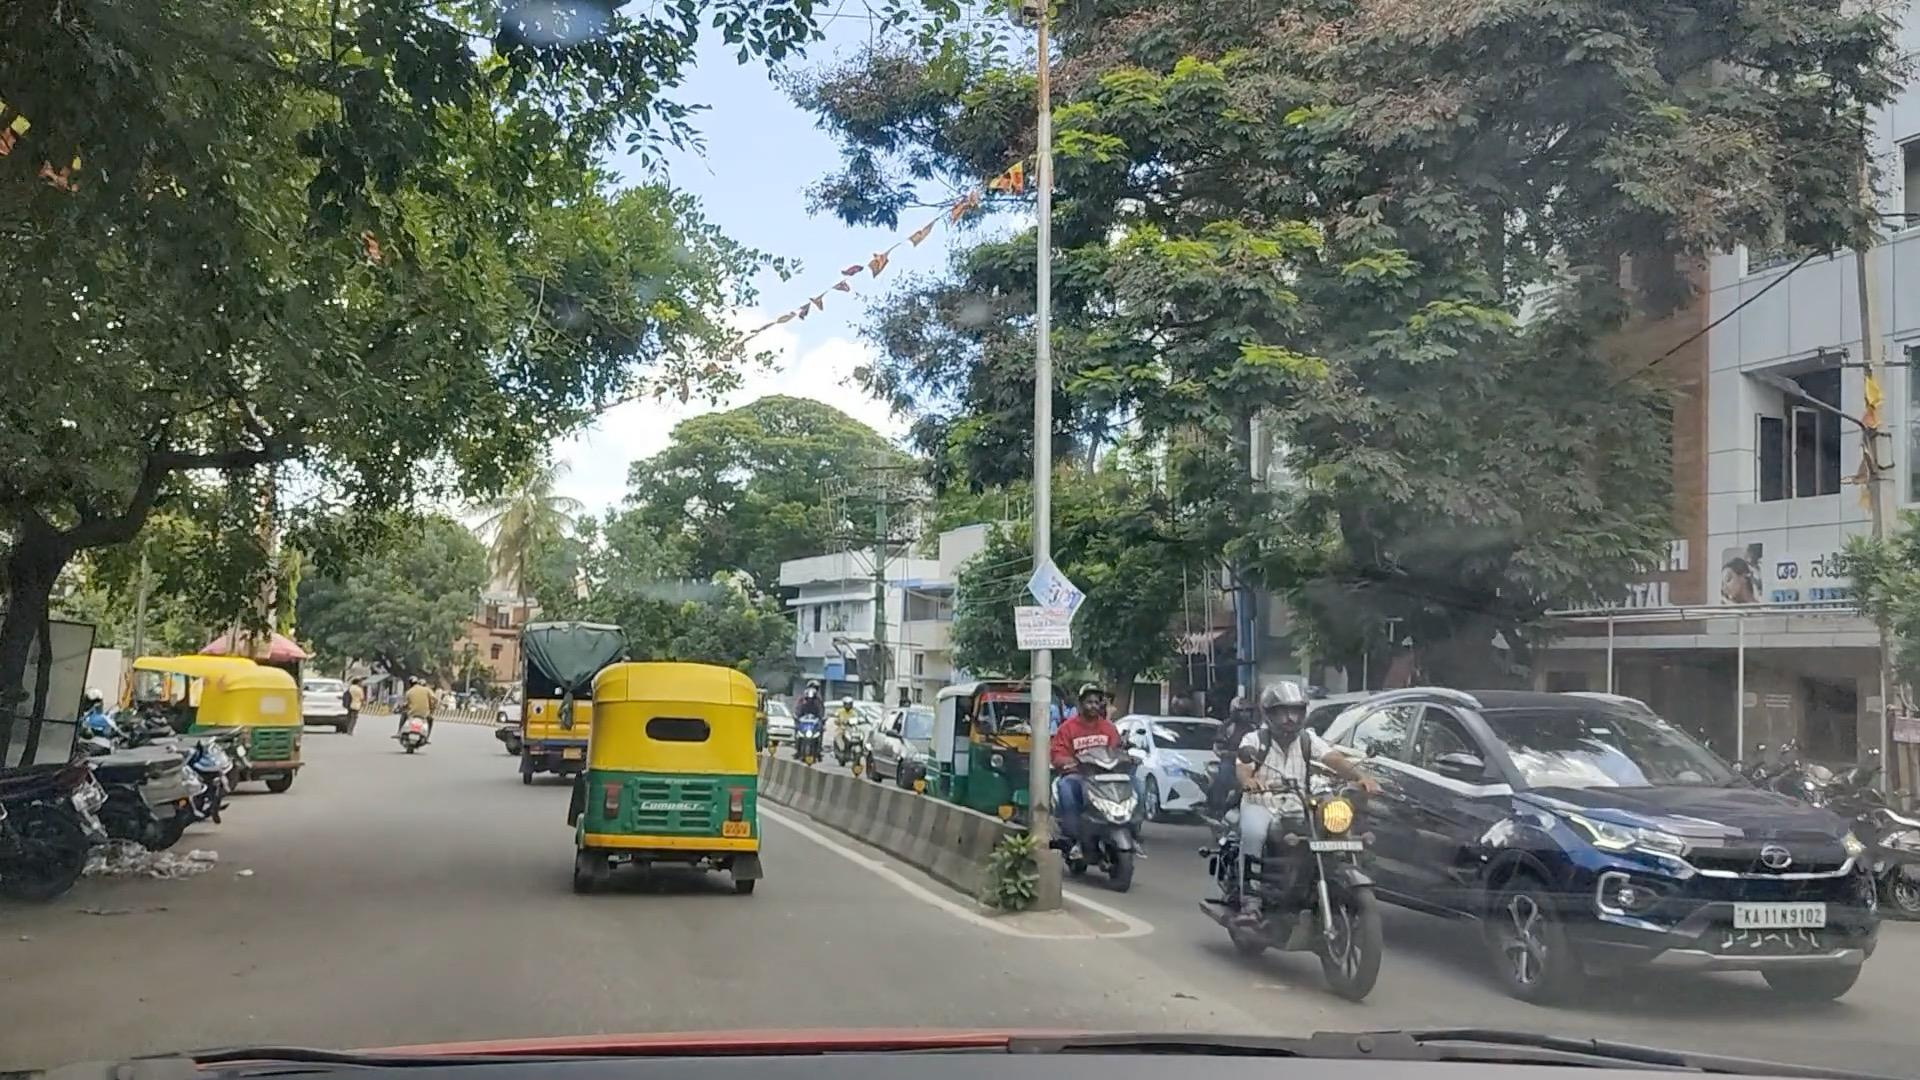LMV: (1225, 687, 1373, 985), (589, 655, 757, 899), (128, 653, 307, 793), (1072, 680, 1133, 895), (400, 673, 438, 753)
